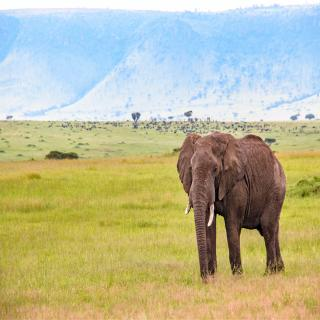Elephant: (172, 125, 296, 287)
